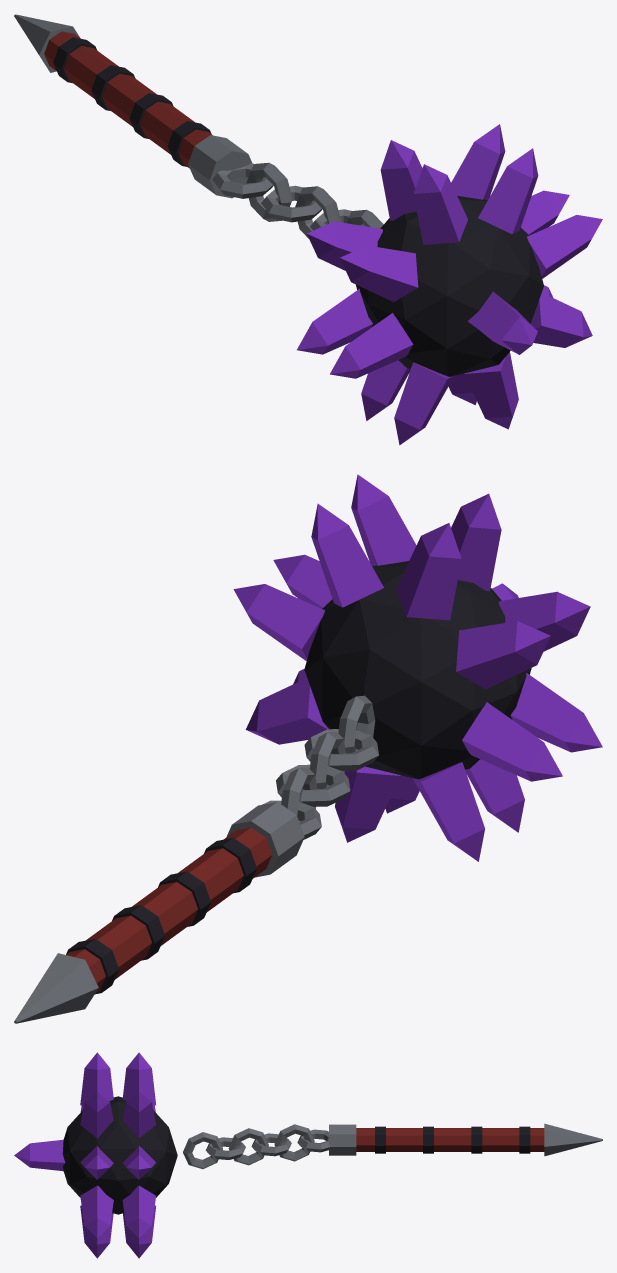
Rendered from 19_Runebound_Flail.glb.
3 renders of one model, top to bottom at view 1: azimuth 30°, elevation 25°; view 2: azimuth 150°, elevation 25°; view 3: azimuth 270°, elevation 25°, orthographic. The views are drawn at different scales.
Visible parts, largest first — view 1: 19_Runebound_Flail; view 2: 19_Runebound_Flail; view 3: 19_Runebound_Flail.
Boxes of the visible parts, x1=… form: 19_Runebound_Flail: x1=14, y1=14, x2=602, y2=445; 19_Runebound_Flail: x1=14, y1=474, x2=602, y2=1023; 19_Runebound_Flail: x1=14, y1=1052, x2=602, y2=1258.
Bounding box in the file's own units: 0.4347 × 0.4347 × 1.29.
